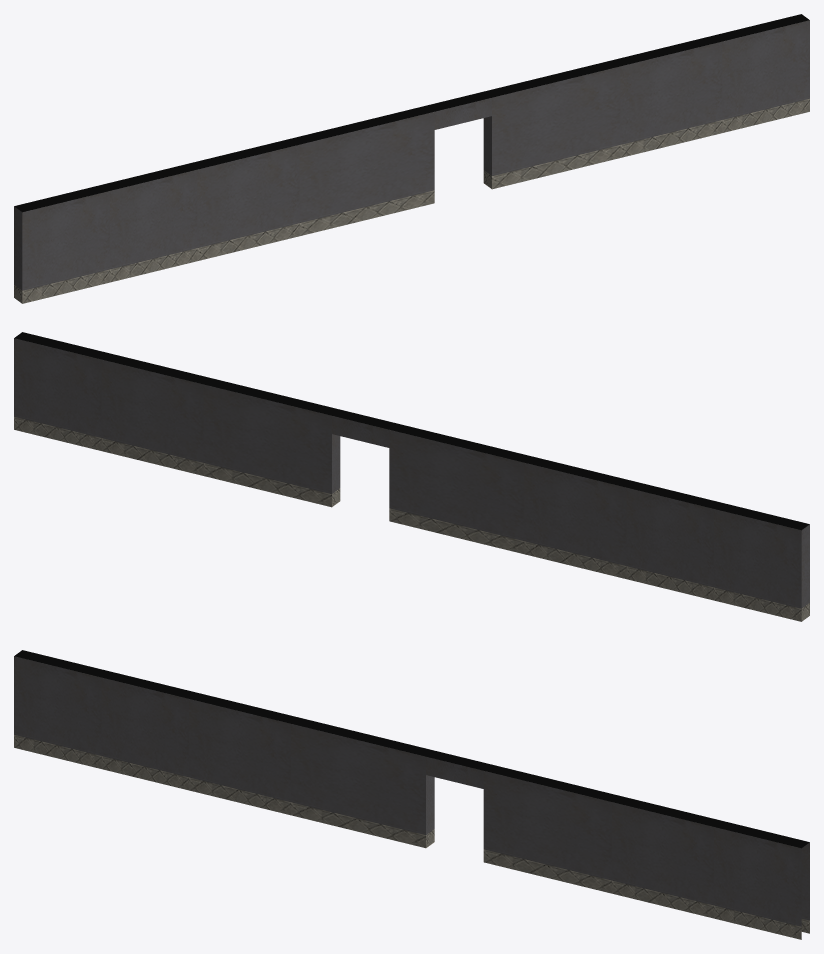
The model's file is long wall shop door.fbx.
3 renders of one model, top to bottom at view 1: azimuth 30°, elevation 25°; view 2: azimuth 150°, elevation 25°; view 3: azimuth 330°, elevation 25°, orthographic.
Visible parts, largest first — view 1: long wall shop door; view 2: long wall shop door; view 3: long wall shop door.
Part boxes in pixels (box(x1,y1,x2,y2)): long wall shop door: box(14, 14, 809, 303); long wall shop door: box(14, 332, 809, 621); long wall shop door: box(14, 650, 809, 939).
Size of the model in its own units: 54 by 6 by 1.
